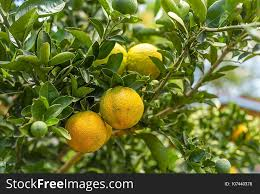orange: (97, 82, 144, 130), (60, 109, 107, 153), (126, 41, 166, 86)
